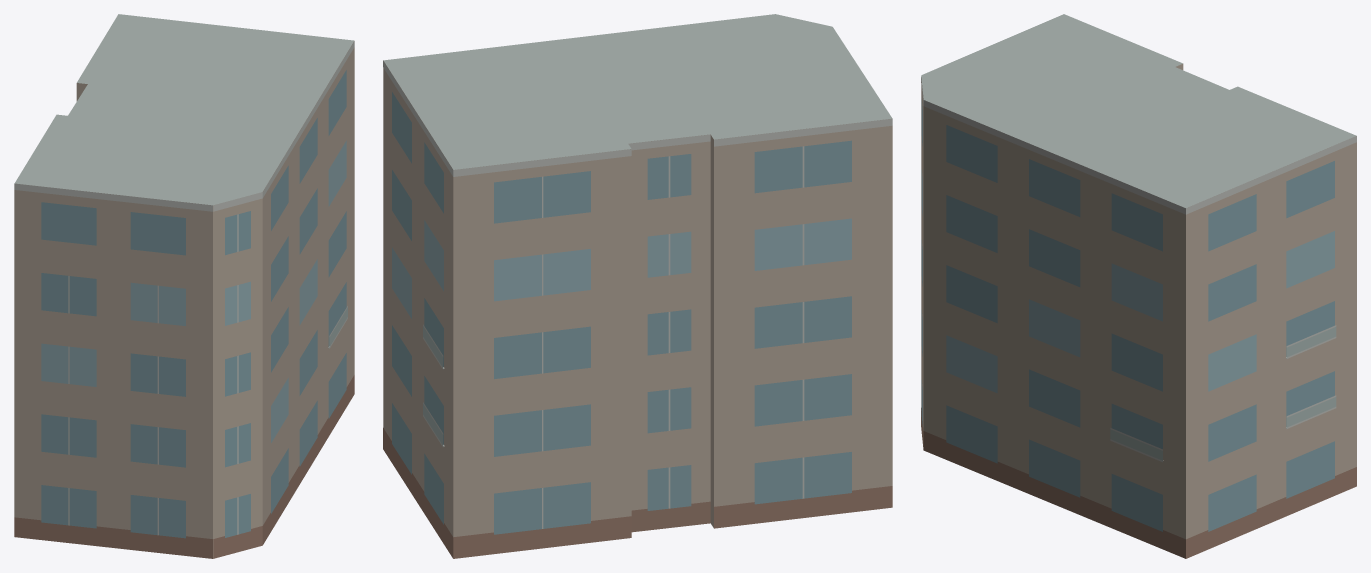
The model's file is survey-upis-32690678.glb.
3 renders of one model, left to right at view 1: azimuth 30°, elevation 25°; view 2: azimuth 150°, elevation 25°; view 3: azimuth 270°, elevation 25°, orthographic. The views are drawn at different scales.
Parts seen in each view (by area): view 1: survey-upis-32690678.tmp; view 2: survey-upis-32690678.tmp; view 3: survey-upis-32690678.tmp.
Boxes of the visible parts, x1,y1,x2,y2 form: survey-upis-32690678.tmp: (14, 14, 354, 558); survey-upis-32690678.tmp: (383, 14, 892, 558); survey-upis-32690678.tmp: (921, 14, 1356, 558).
Size of the model in its own units: 15.94 by 13.4 by 15.1.
